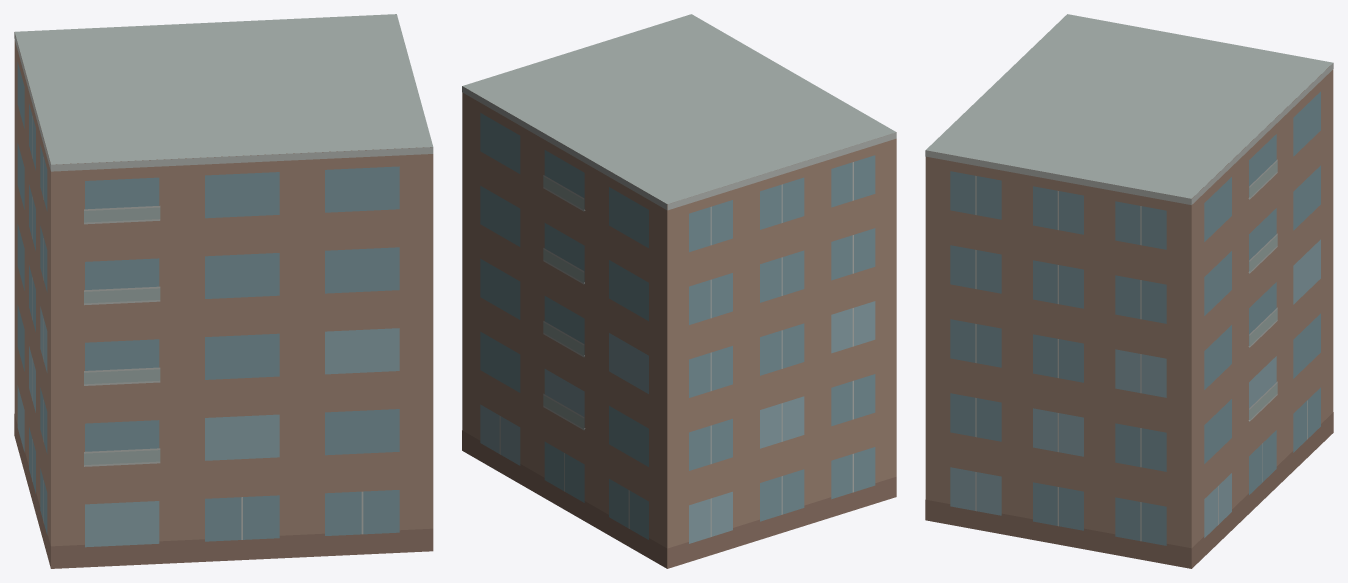
Rendered from survey-upis-32523695.glb.
3 renders of one model, left to right at view 1: azimuth 30°, elevation 25°; view 2: azimuth 150°, elevation 25°; view 3: azimuth 270°, elevation 25°, orthographic. The views are drawn at different scales.
Visible parts, largest first — view 1: survey-upis-32523695.tmp; view 2: survey-upis-32523695.tmp; view 3: survey-upis-32523695.tmp.
Part boxes in pixels (left/top/right/bottom): survey-upis-32523695.tmp: left=14, top=14, right=433, bottom=568; survey-upis-32523695.tmp: left=462, top=14, right=896, bottom=568; survey-upis-32523695.tmp: left=925, top=14, right=1333, bottom=568.
Size of the model in its own units: 15.22 by 14.2 by 14.2.
